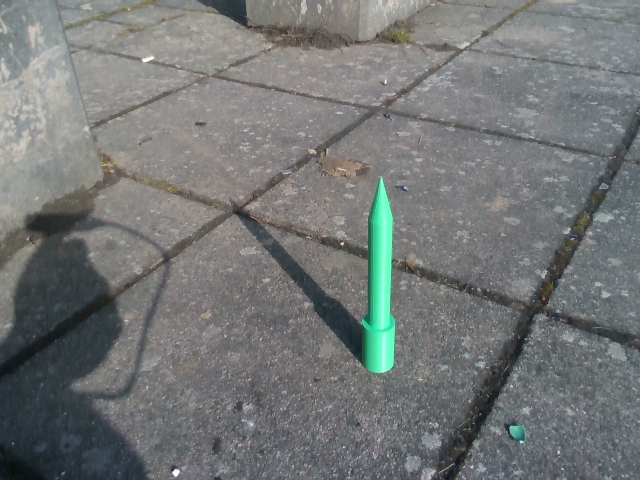Probe: (356, 166, 402, 380)
